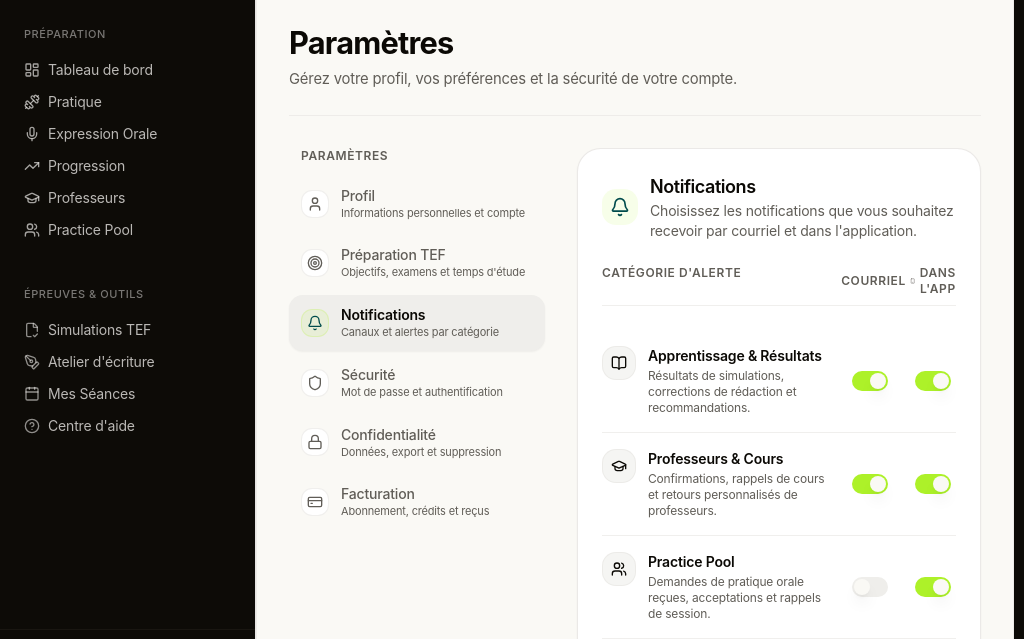
Page 20 — Student Profile & Settings (/settings) › renders notifications with categories and enforces mandatory system alerts
Expected: the text "Apprentissage & Résultats" is shown, [648,346,822,366]
Click the switch named "Notification dans l'application pour Apprentissage & Résultats". click: (932, 381)
box: [914,371,950,391]
(page scrolled)
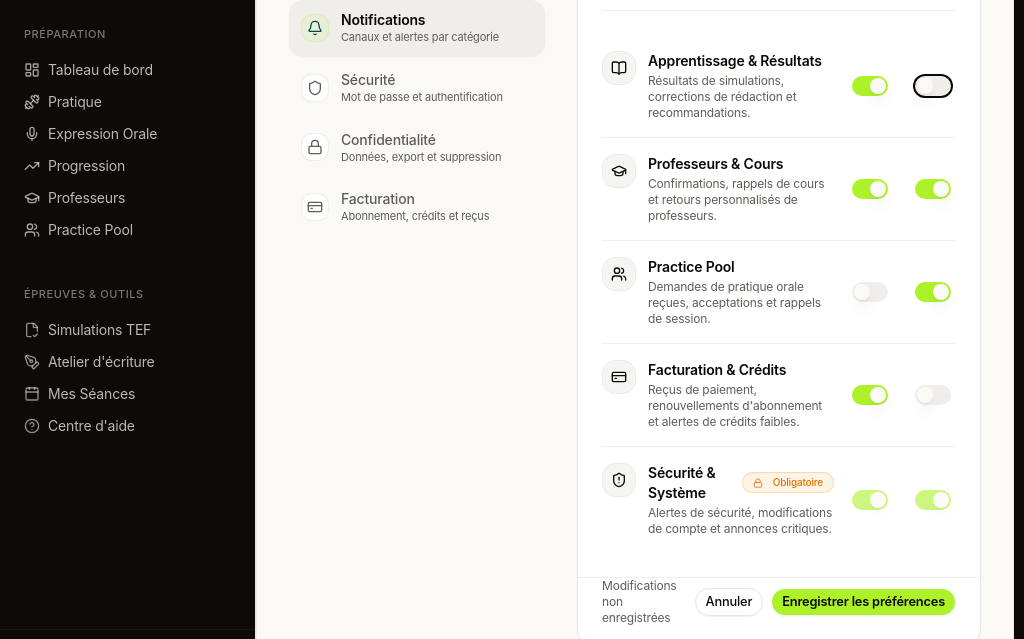
Click the button "Enregistrer les préférences". click: (864, 602)
box: [771,588,956,616]
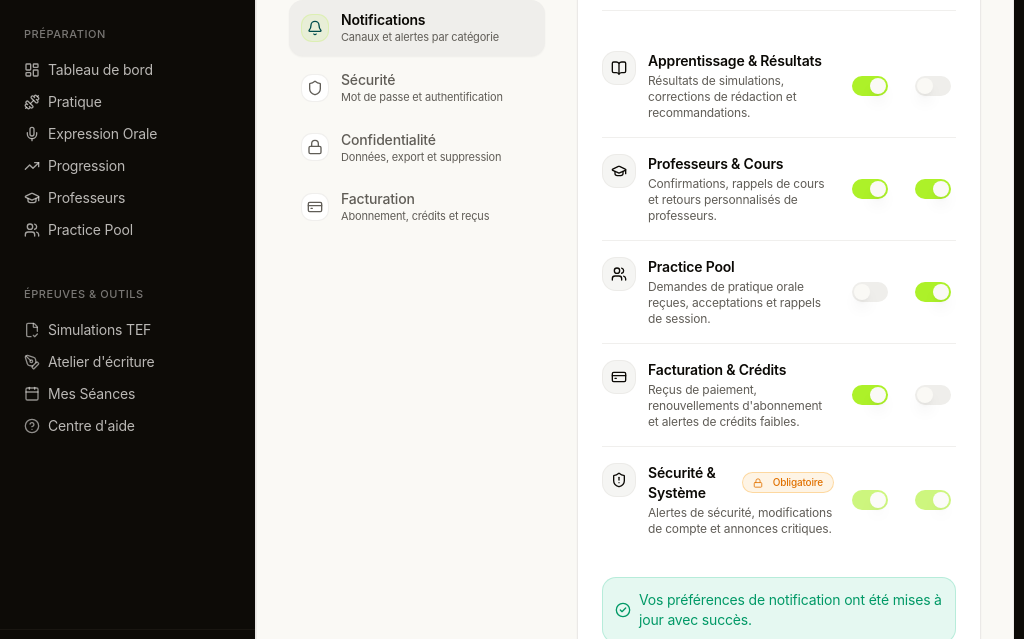
Now the text "Vos préférences de notification ont été mises à jour avec succès." is shown, box [639,590,943,630]
